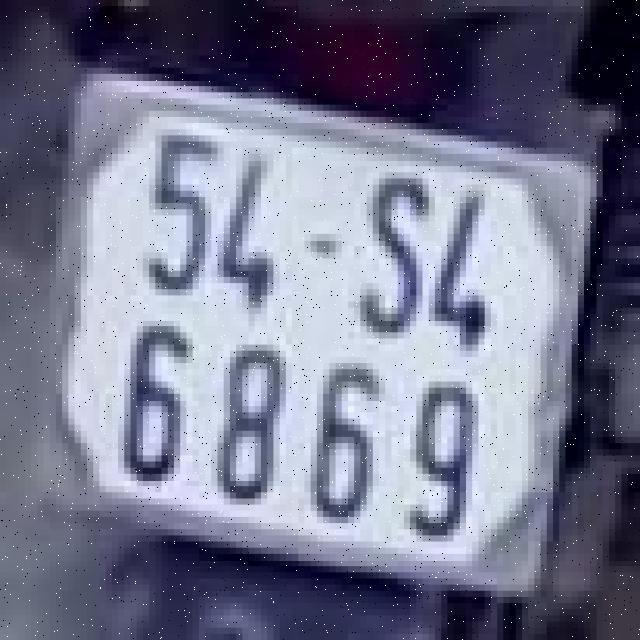4: (426, 166, 500, 351), (214, 138, 276, 304)
5: (130, 126, 212, 299)
6: (102, 314, 190, 511), (307, 342, 388, 532)
8: (205, 332, 286, 511)
9: (404, 372, 478, 545)
S: (348, 160, 429, 351)
